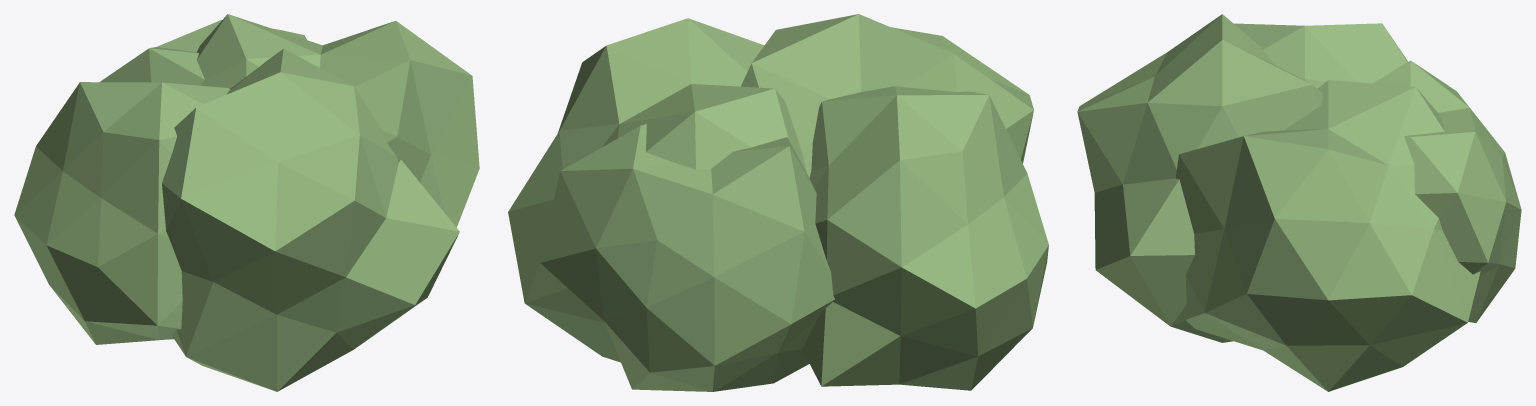
File: plant_bush_0.glb
The picture shows the model from 3 angles, left to right: view 1: azimuth 30°, elevation 25°; view 2: azimuth 150°, elevation 25°; view 3: azimuth 270°, elevation 25°; orthographic projection. The views are drawn at different scales.
Parts seen in each view (by area): view 1: plant_bush_0; view 2: plant_bush_0; view 3: plant_bush_0.
Boxes of the visible parts, left/top/right/bottom form: plant_bush_0: left=14, top=14, right=479, bottom=391; plant_bush_0: left=508, top=14, right=1048, bottom=391; plant_bush_0: left=1077, top=14, right=1521, bottom=391.
Bounding box in the file's own units: 1.36 × 0.8546 × 1.29.
